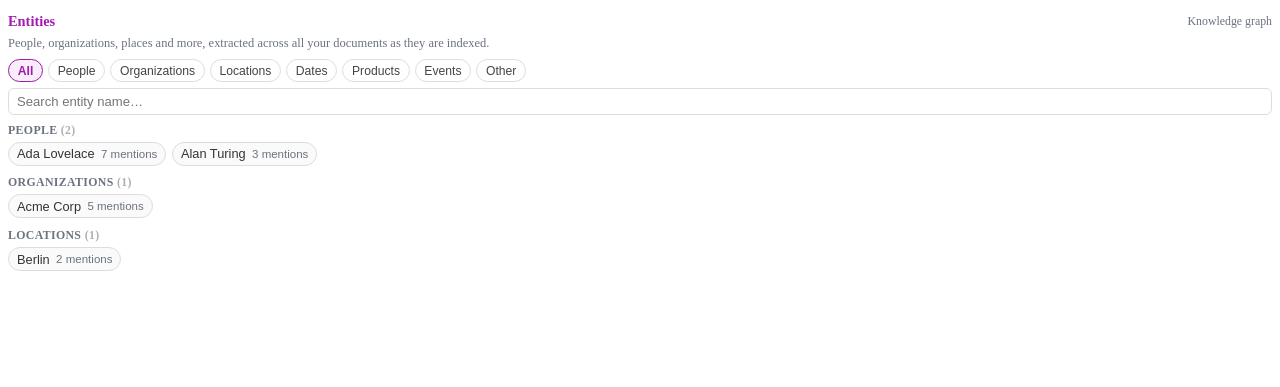
Scenario: clicking an entity opens its detail: documents + edges
Click the text "Ada Lovelace": (56, 154) 17,146 -> 95,161
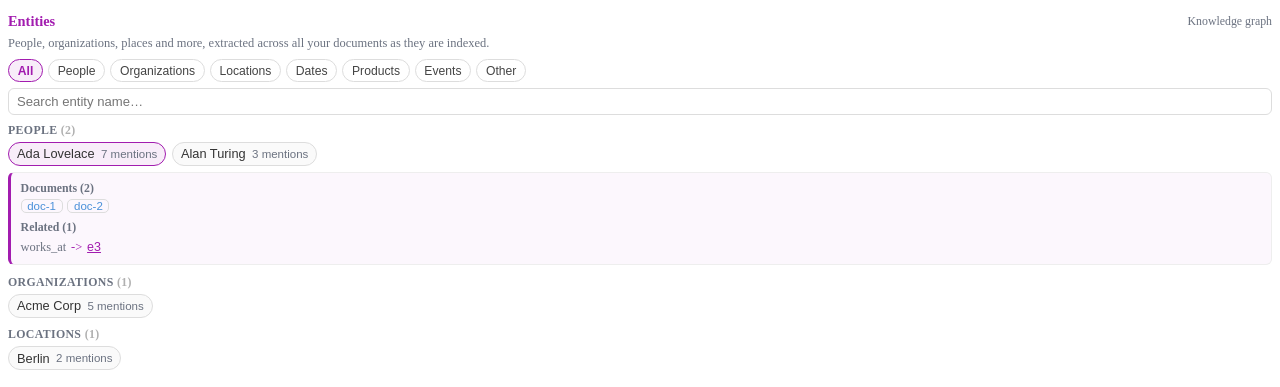
Result: the element with test id "entity-detail" is shown at 8,172 -> 1272,265
Result: the number of buttons with test id "entity-document" is 2 at 21,199 -> 63,213; 67,199 -> 109,213
Result: the button "doc-1" is shown at 21,199 -> 63,213
